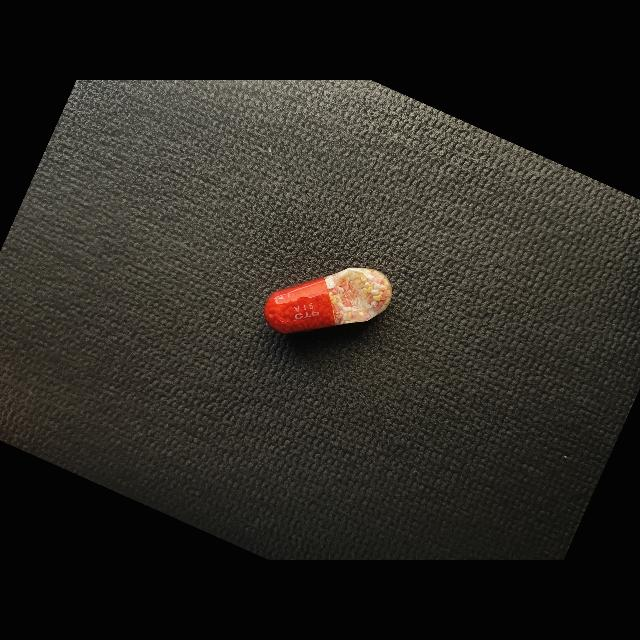Defective Capsule: (264, 268, 392, 333)
